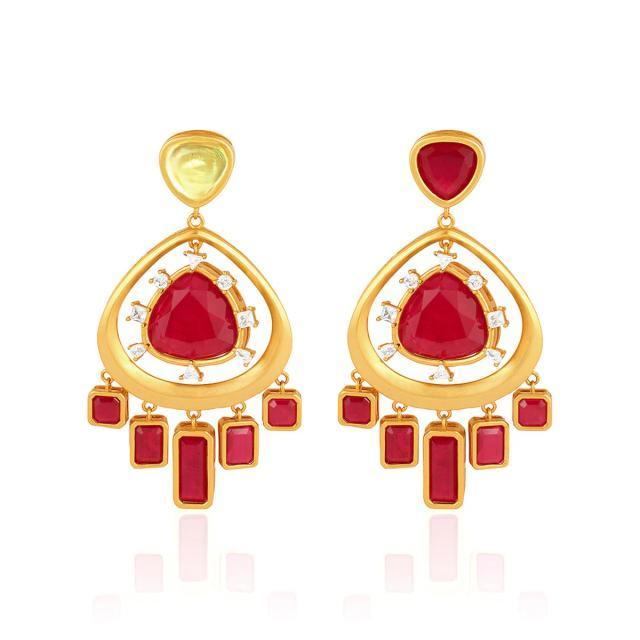missing gem: (167, 142, 225, 199)
